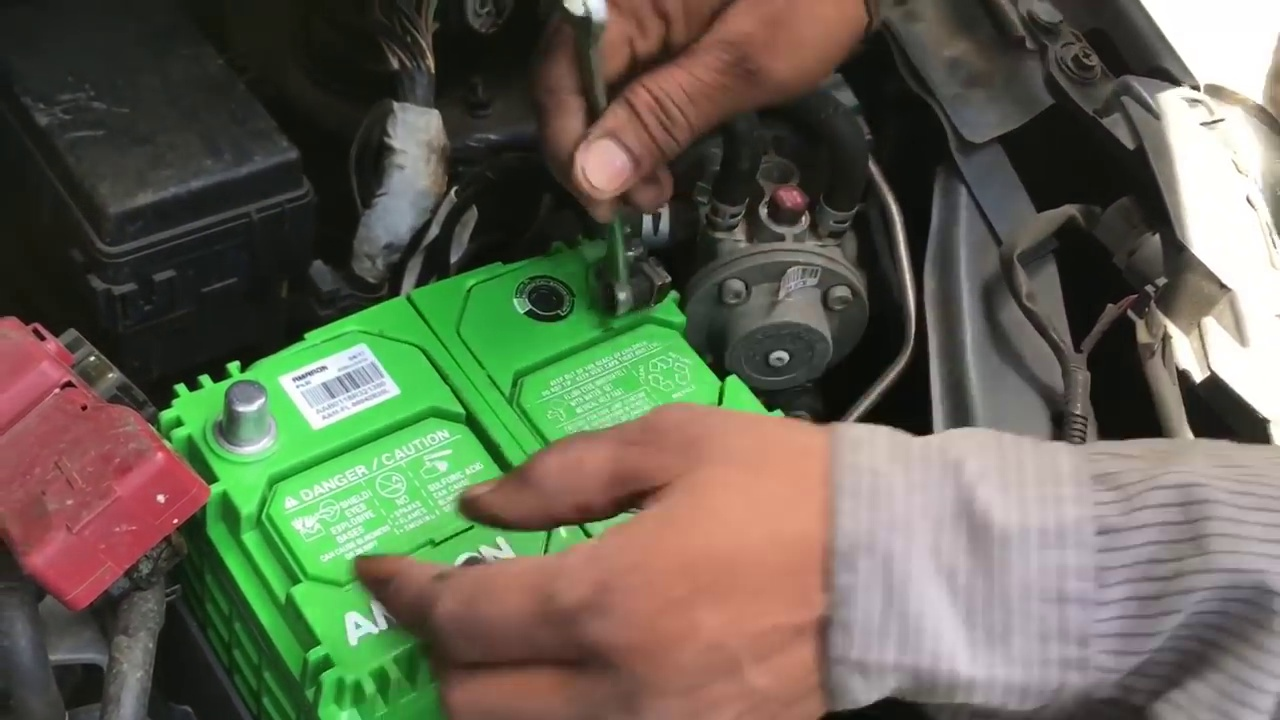battery: (155, 210, 761, 664)
neg_touched: (544, 6, 769, 338)
pos_disconnected: (31, 321, 317, 543)
